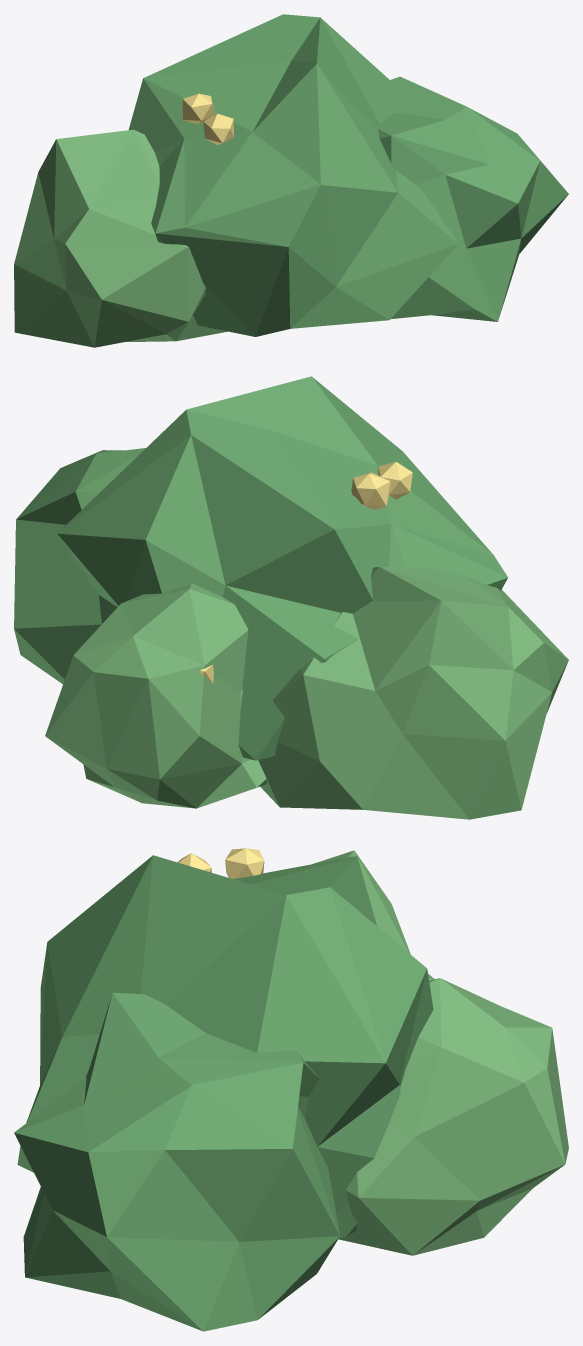
File: bush.glb
3 renders of one model, top to bottom at view 1: azimuth 30°, elevation 25°; view 2: azimuth 150°, elevation 25°; view 3: azimuth 270°, elevation 25°, orthographic. The views are drawn at different scales.
Parts seen in each view (by area): view 1: Bush_C, Bush_L, Bush_R, Blossom_6, Blossom_5; view 2: Bush_C, Bush_L, Bush_B, Bush_R, Blossom_6, Blossom_5; view 3: Bush_R, Bush_C, Bush_B, Bush_L, Blossom_6.
Part boxes in pixels (x1,y1,x2,y2): Bush_C: (128,14,458,336); Bush_L: (14,129,227,347); Bush_R: (378,76,568,321); Blossom_6: (182,93,215,123); Blossom_5: (203,113,234,145); Bush_C: (57,376,508,760); Bush_L: (258,566,568,819); Bush_B: (45,583,266,808); Bush_R: (14,448,145,683); Blossom_6: (351,472,390,509); Blossom_5: (378,462,412,499); Bush_R: (14,992,339,1331); Bush_C: (17,855,433,1238); Bush_B: (338,978,568,1255); Bush_L: (312,850,434,980); Blossom_6: (225,848,264,878).
Size of the model in its own units: 1.54 by 0.8083 by 1.18.
